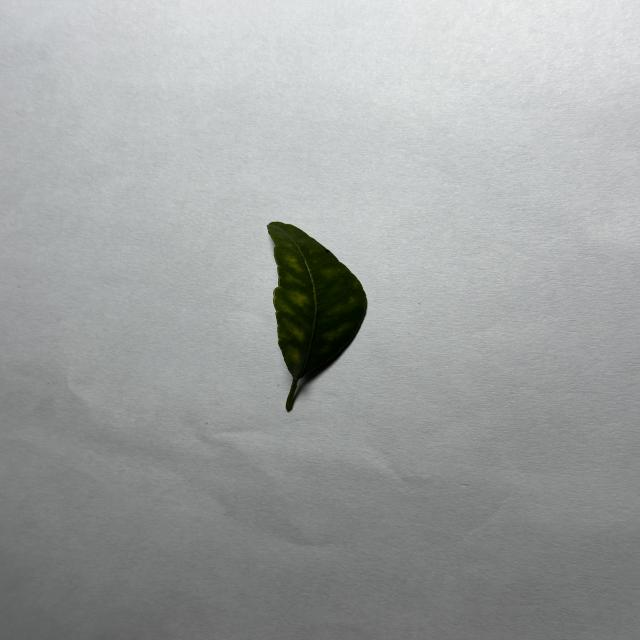greening: (268, 222, 367, 411)
